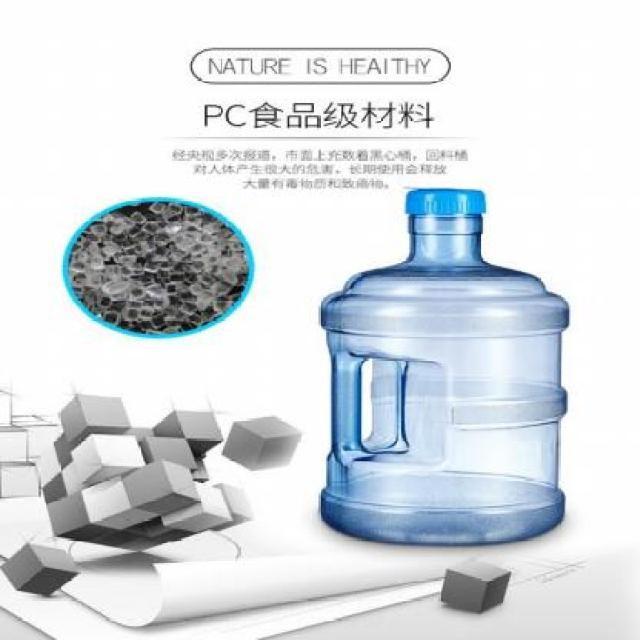coolerbottle: (308, 182, 574, 553)
